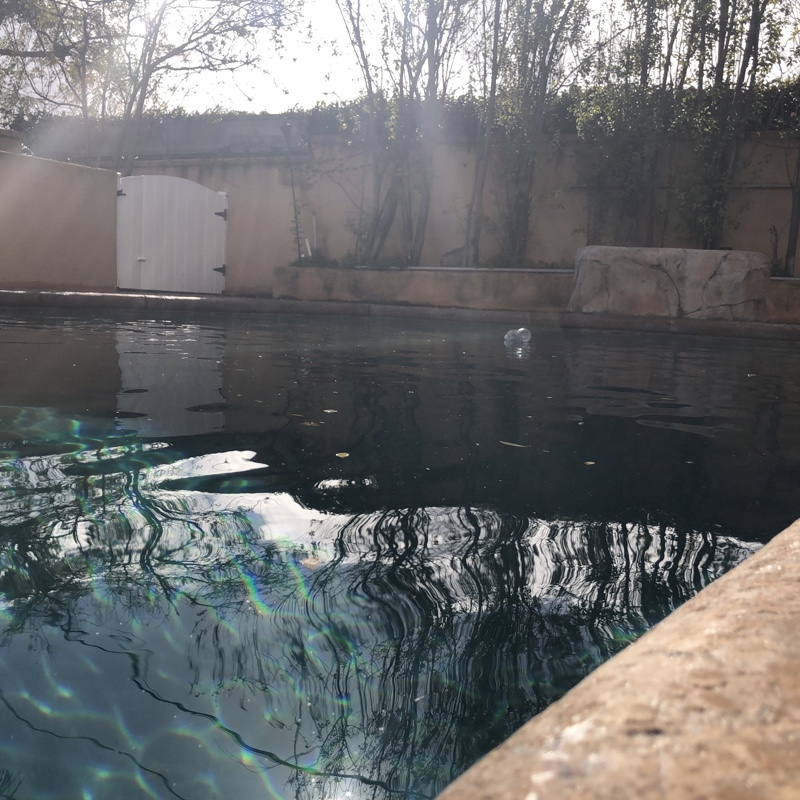Plastic Bottle: (501, 326, 531, 344)
